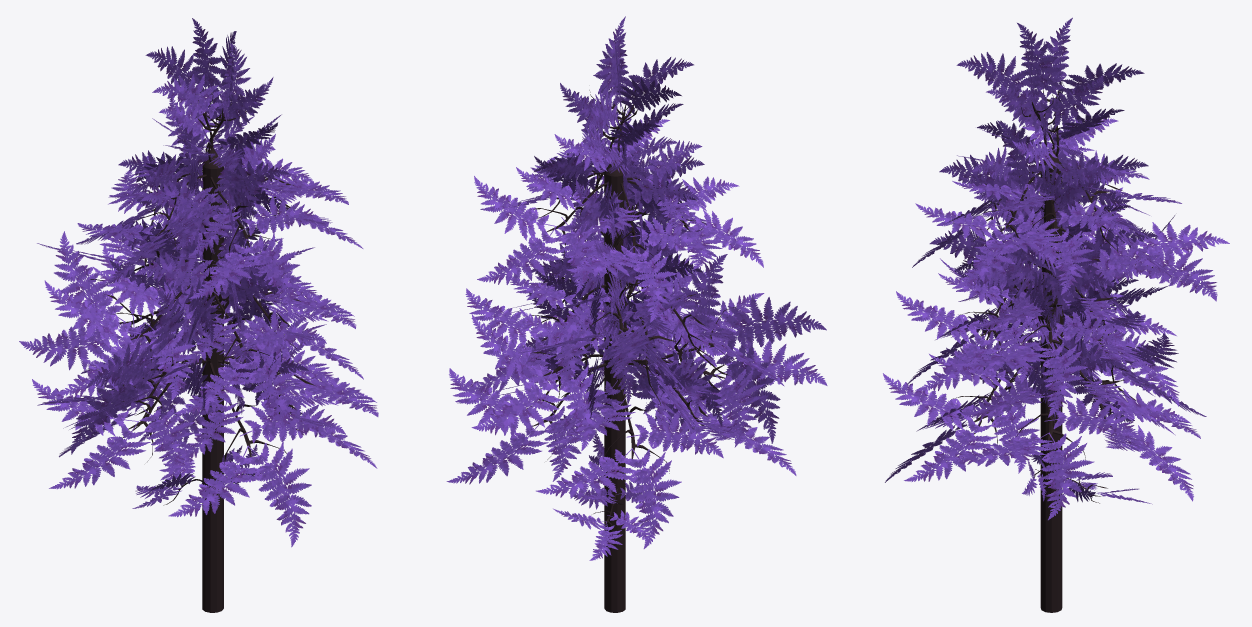
Rendered from tree5.fbx.
3 renders of one model, left to right at view 1: azimuth 30°, elevation 25°; view 2: azimuth 150°, elevation 25°; view 3: azimuth 270°, elevation 25°, orthographic.
Parts seen in each view (by area): view 1: pCylinder381, pCylinder372, pCylinder363, pCylinder371, pCylinder380, pCylinder386, pCylinder387, pCylinder354, pCylinder358, pCylinder357, pCylinder362, pCylinder375 (+19 smaller); view 2: pCylinder379, pCylinder387, pCylinder384, pCylinder360, pCylinder385, pCylinder361, pCylinder378, pCylinder369, pCylinder362, pCylinder354, pCylinder357, pCylinder370 (+18 smaller); view 3: pCylinder377, pCylinder382, pCylinder368, pCylinder373, pCylinder359, pCylinder364, pCylinder356, pCylinder358, pCylinder370, pCylinder354, pCylinder378, pCylinder369 (+16 smaller).
Boxes of the visible parts, left/top/right/bottom form: pCylinder381: left=154, top=349, right=345, bottom=547; pCylinder372: left=171, top=270, right=326, bottom=440; pCylinder363: left=172, top=161, right=322, bottom=315; pCylinder371: left=44, top=259, right=217, bottom=400; pCylinder380: left=32, top=353, right=207, bottom=489; pCylinder386: left=19, top=231, right=202, bottom=403; pCylinder387: left=70, top=281, right=199, bottom=454; pCylinder354: left=202, top=147, right=223, bottom=612; pCylinder358: left=145, top=18, right=277, bottom=151; pCylinder357: left=152, top=43, right=273, bottom=156; pCylinder362: left=77, top=160, right=206, bottom=288; pCylinder375: left=134, top=213, right=277, bottom=338; pCylinder379: left=536, top=357, right=723, bottom=548; pCylinder387: left=627, top=254, right=826, bottom=443; pCylinder384: left=471, top=292, right=636, bottom=450; pCylinder360: left=474, top=156, right=619, bottom=293; pCylinder385: left=629, top=276, right=827, bottom=447; pCylinder361: left=564, top=170, right=711, bottom=322; pCylinder378: left=446, top=350, right=606, bottom=484; pCylinder369: left=464, top=272, right=606, bottom=392; pCylinder362: left=627, top=140, right=763, bottom=269; pCylinder354: left=604, top=160, right=625, bottom=612; pCylinder357: left=554, top=32, right=681, bottom=172; pCylinder370: left=518, top=241, right=695, bottom=376; pCylinder377: left=943, top=337, right=1138, bottom=520; pCylinder382: left=883, top=347, right=1054, bottom=481; pCylinder368: left=957, top=262, right=1126, bottom=417; pCylinder373: left=896, top=268, right=1053, bottom=391; pCylinder359: left=974, top=152, right=1129, bottom=294; pCylinder364: left=915, top=164, right=1071, bottom=287; pCylinder356: left=956, top=23, right=1112, bottom=146; pCylinder358: left=1001, top=17, right=1144, bottom=172; pCylinder370: left=1067, top=187, right=1229, bottom=318; pCylinder354: left=1040, top=147, right=1062, bottom=612; pCylinder378: left=1050, top=328, right=1193, bottom=501; pCylinder369: left=1050, top=249, right=1179, bottom=406.
Size of the model in its own units: 29.36 by 47.12 by 26.41.
